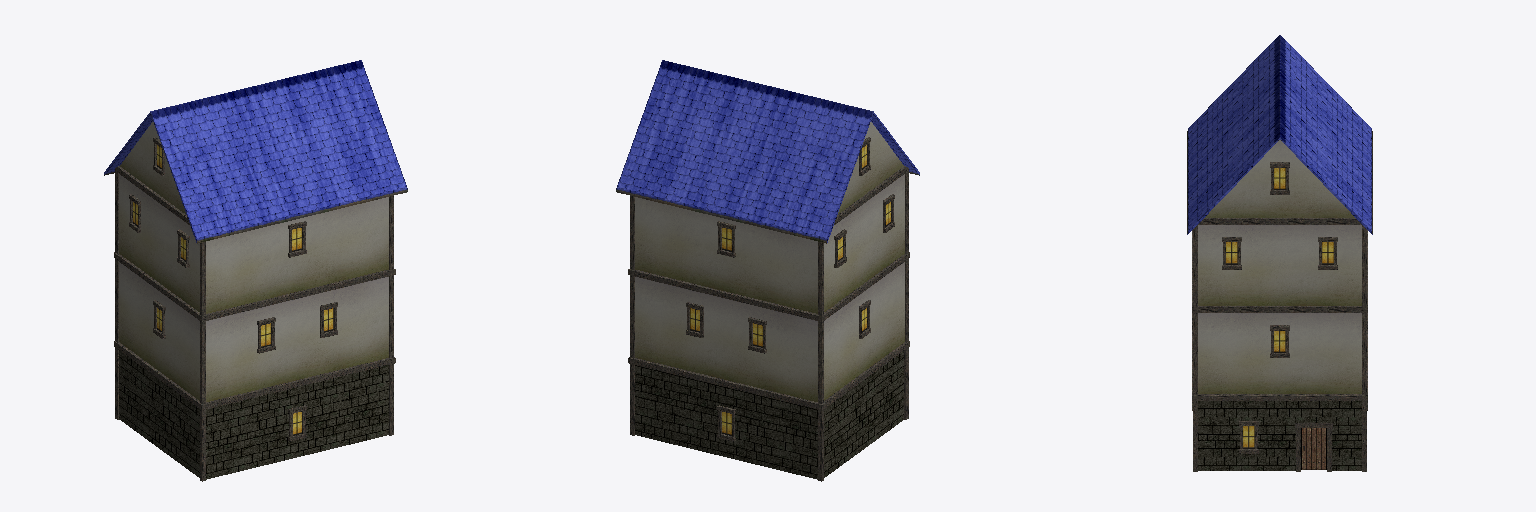
3 views of the same model, side by side, from view 1: azimuth 30°, elevation 25°; view 2: azimuth 150°, elevation 25°; view 3: azimuth 270°, elevation 25° (orthographic).
Visible parts, largest first — view 1: polySurface38; view 2: polySurface38; view 3: polySurface38.
Part boxes in pixels (left/top/right/bottom): polySurface38: left=104, top=60, right=407, bottom=481; polySurface38: left=616, top=60, right=919, bottom=481; polySurface38: left=1187, top=35, right=1372, bottom=471.
Bounding box in the file's own units: 20.27 × 31.25 × 15.42.
Materials: 1 (1 with a texture image).